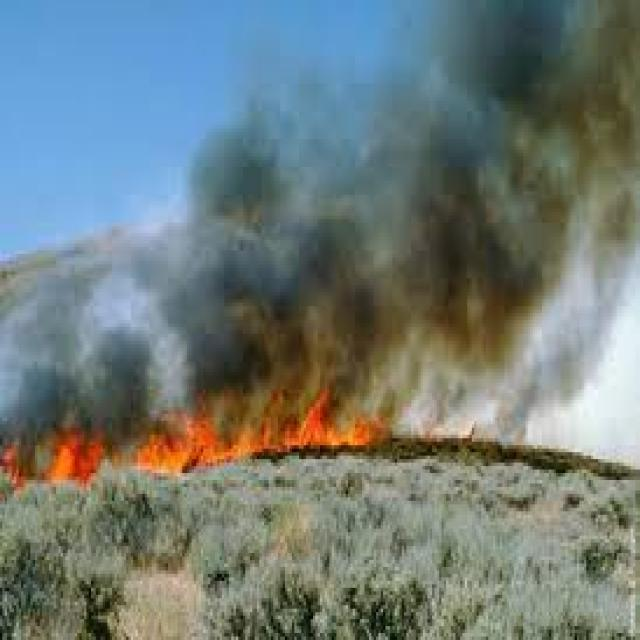Fire: (51, 410, 396, 472)
Smoke: (225, 127, 640, 401), (9, 289, 229, 407)
